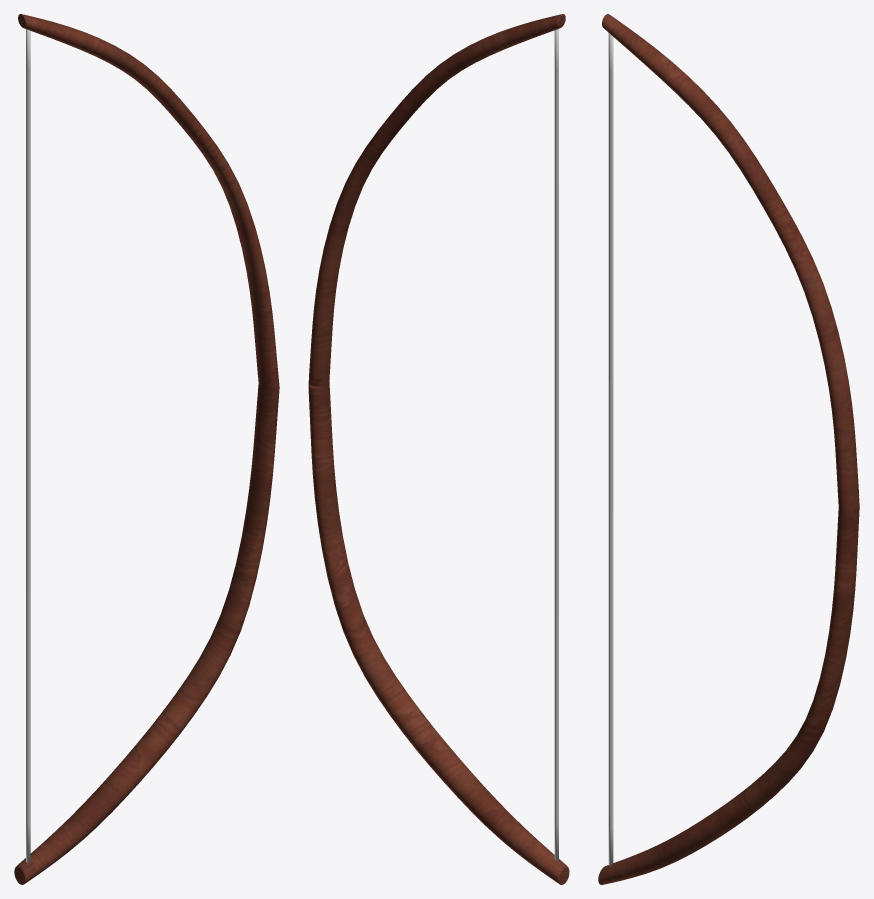
File: Arc7.fbx
The picture shows the model from 3 angles, left to right: view 1: azimuth 30°, elevation 25°; view 2: azimuth 150°, elevation 25°; view 3: azimuth 330°, elevation 25°; orthographic projection.
Parts seen in each view (by area): view 1: ARc, Corde; view 2: ARc, Corde; view 3: ARc, Corde.
Boxes of the visible parts, x1,y1,x2,y2 form: ARc: [14, 14, 279, 884]; Corde: [26, 29, 30, 862]; ARc: [308, 14, 569, 884]; Corde: [554, 29, 558, 861]; ARc: [598, 14, 859, 884]; Corde: [608, 33, 613, 865].
Bounding box in the file's own units: 36.39 × 118 × 4.21.
